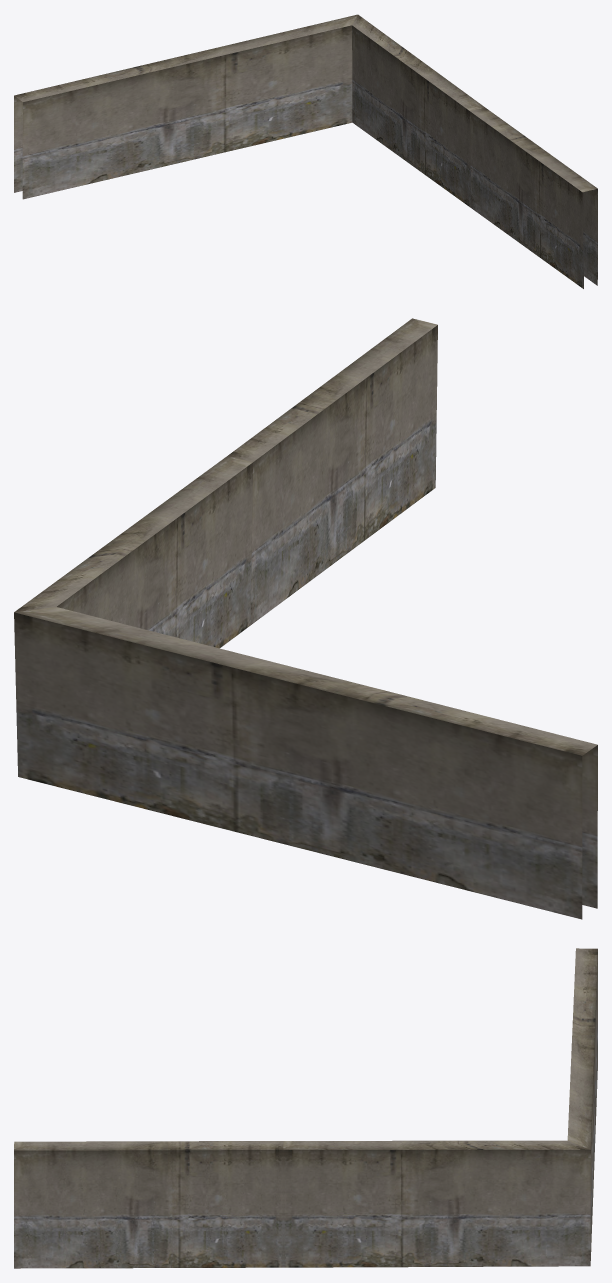
File: building17a.fbx
3 renders of one model, top to bottom at view 1: azimuth 30°, elevation 25°; view 2: azimuth 150°, elevation 25°; view 3: azimuth 270°, elevation 25°, orthographic. The views are drawn at different scales.
Visible parts, largest first — view 1: polySurface412; view 2: polySurface412; view 3: polySurface412.
Part boxes in pixels (x1,y1,x2,y2): polySurface412: (14,14,597,288); polySurface412: (14,318,597,919); polySurface412: (14,948,597,1268).
Size of the model in its own units: 785 by 213 by 958.
